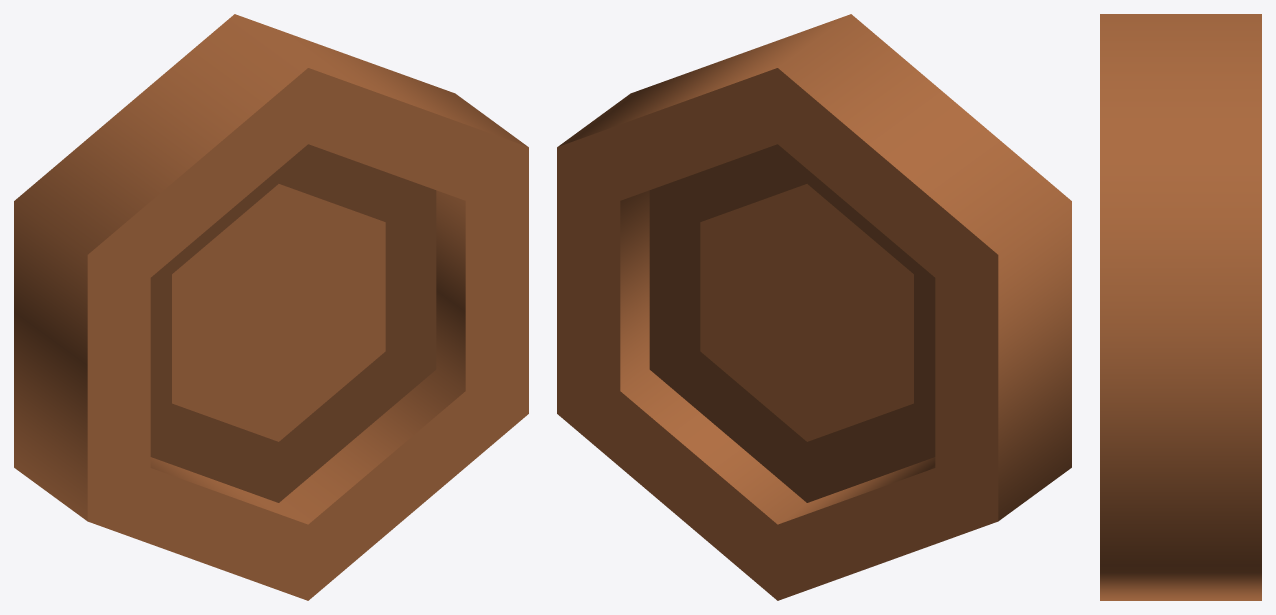
Rendered from coinBronze.glb.
3 views of the same model, side by side, from view 1: azimuth 30°, elevation 25°; view 2: azimuth 150°, elevation 25°; view 3: azimuth 270°, elevation 25° (orthographic). The views are drawn at different scales.
Visible parts, largest first — view 1: coinBronze; view 2: coinBronze; view 3: coinBronze.
Part boxes in pixels (bbox=[...]): coinBronze: bbox=[14, 14, 528, 600]; coinBronze: bbox=[557, 14, 1071, 600]; coinBronze: bbox=[1100, 14, 1261, 600].
Bounding box in the file's own units: 0.3464 × 0.4 × 0.1.
